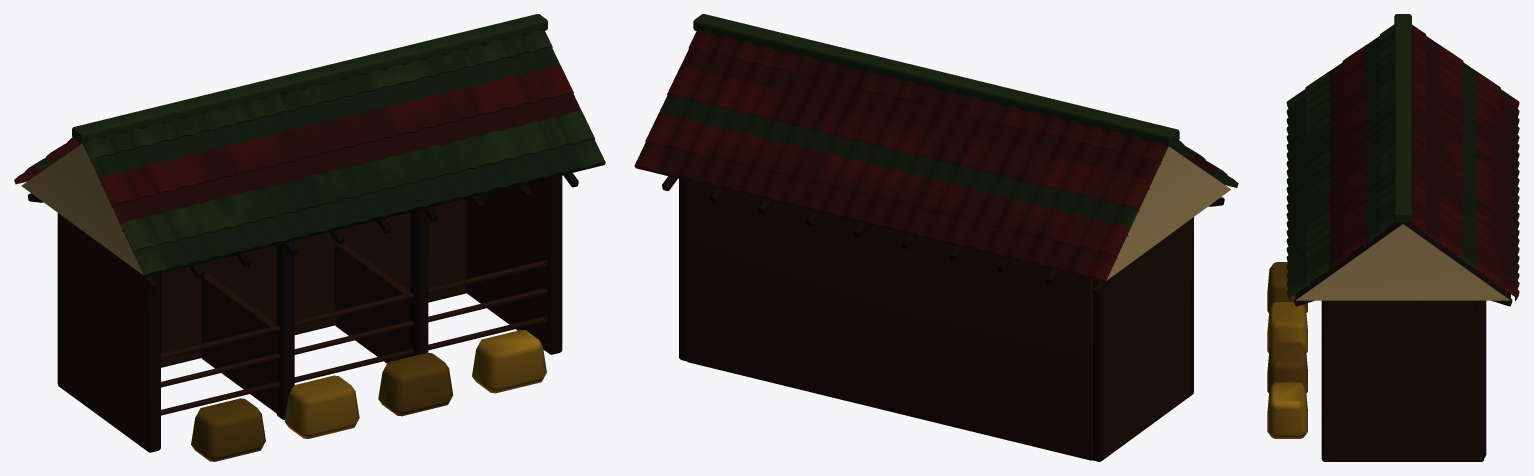
Rendered from Estabulo.fbx.
3 renders of one model, left to right at view 1: azimuth 30°, elevation 25°; view 2: azimuth 150°, elevation 25°; view 3: azimuth 270°, elevation 25°, orthographic. The views are drawn at different scales.
Parts seen in each view (by area): view 1: Estabulo; view 2: Estabulo; view 3: Estabulo.
Part boxes in pixels (<box>): Estabulo: <box>14,14,605,461</box>; Estabulo: <box>634,14,1238,461</box>; Estabulo: <box>1267,14,1519,461</box>.
Bounding box in the file's own units: 6.99 × 4.24 × 3.72.
